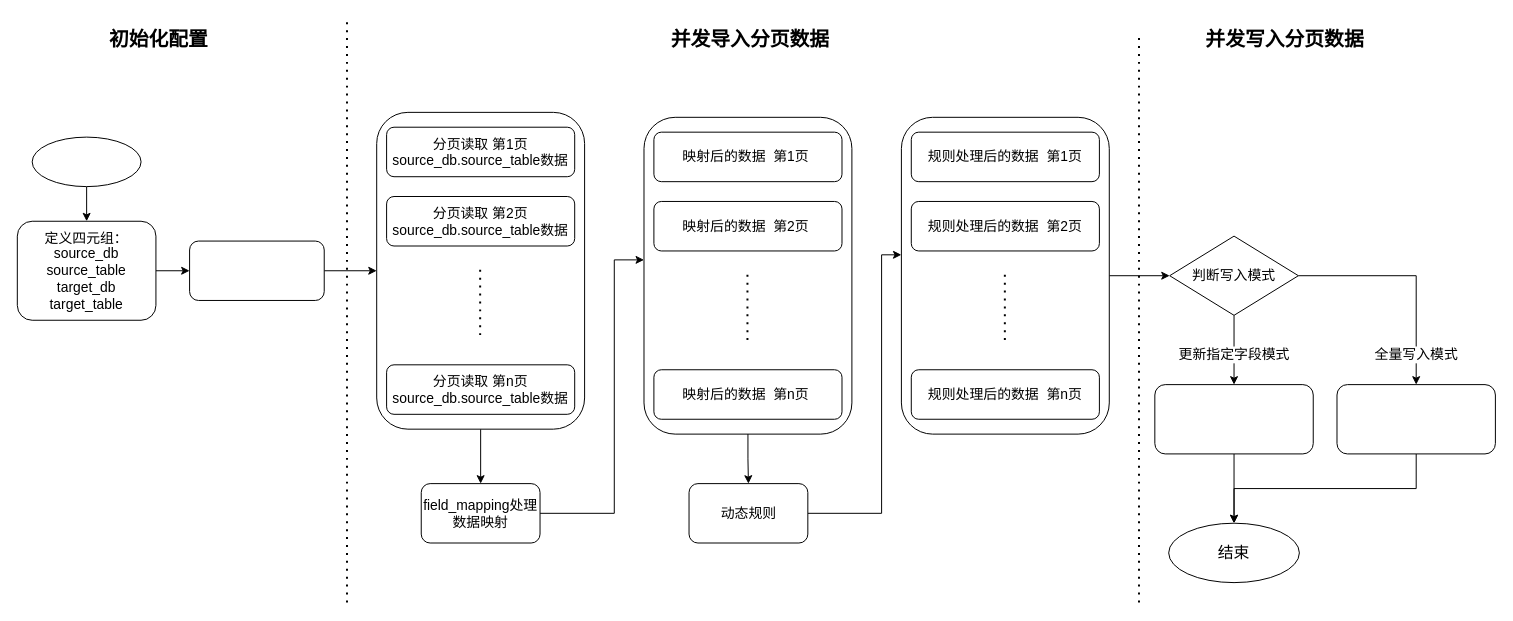
The diagram is 1513 pixels wide and 621 high, and some of its shapes have lost their labels. Here are the shapes that lost their labels. From the top down, the centre of each, then its label:
At pixel 86 161: "开始".
At pixel 256 270: "获取source_db连接".
At pixel 1233 419: "通过update into语法 更新指定列数据".
At pixel 1415 419: "通过replace into语法 写入数据".
